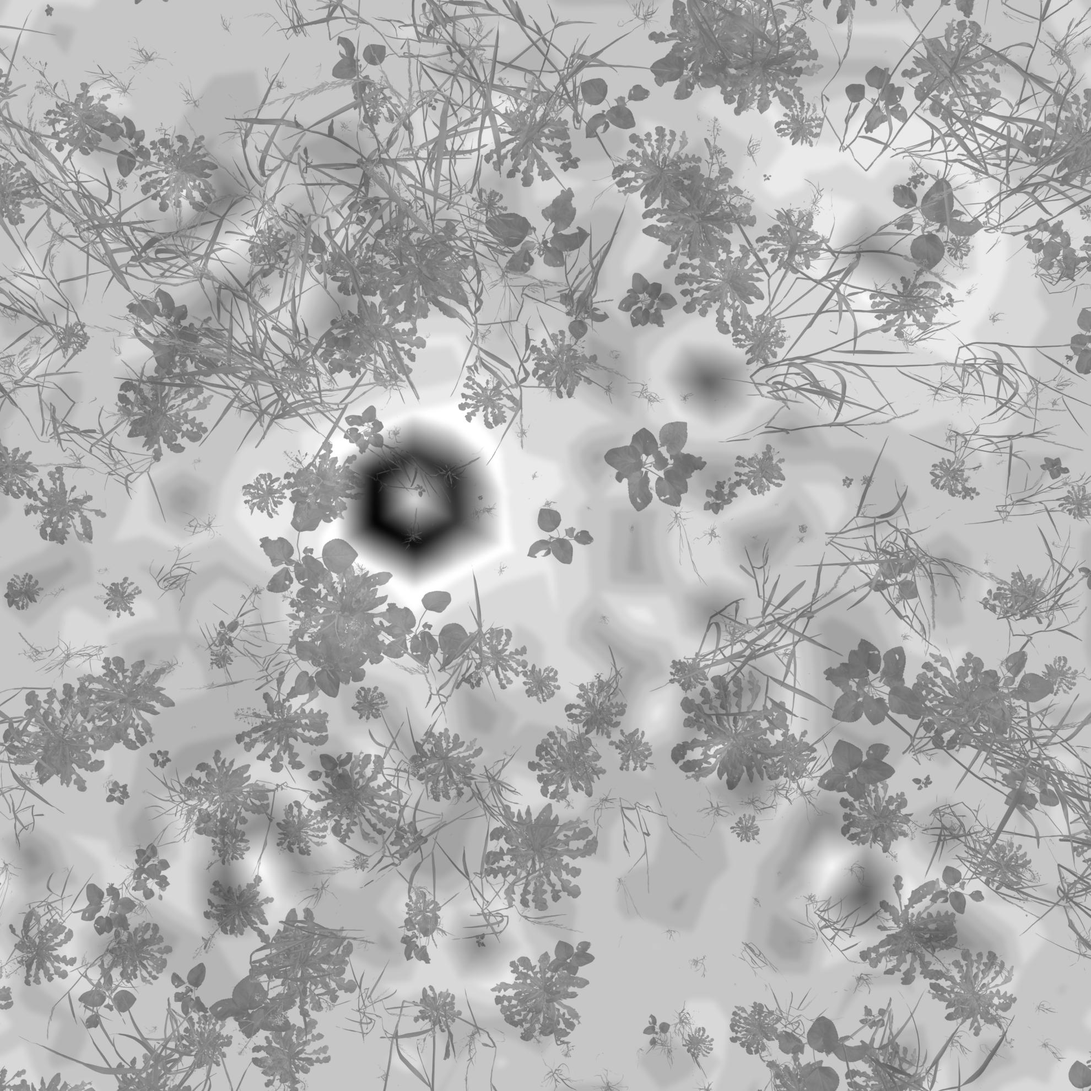landmine: (333, 433, 491, 580), (830, 167, 982, 308)
